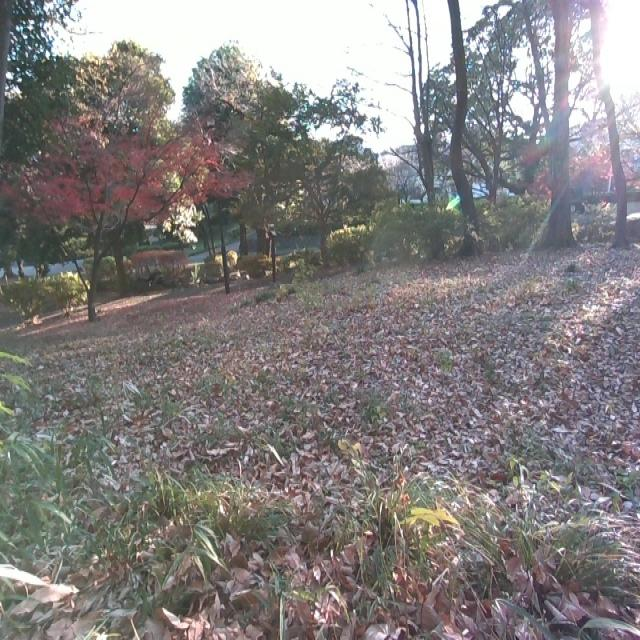bush: (1, 332, 71, 633)
tree: (36, 126, 248, 316), (513, 0, 588, 253), (586, 0, 639, 240), (282, 107, 358, 273), (392, 0, 442, 252), (436, 0, 486, 248), (210, 164, 243, 294)
